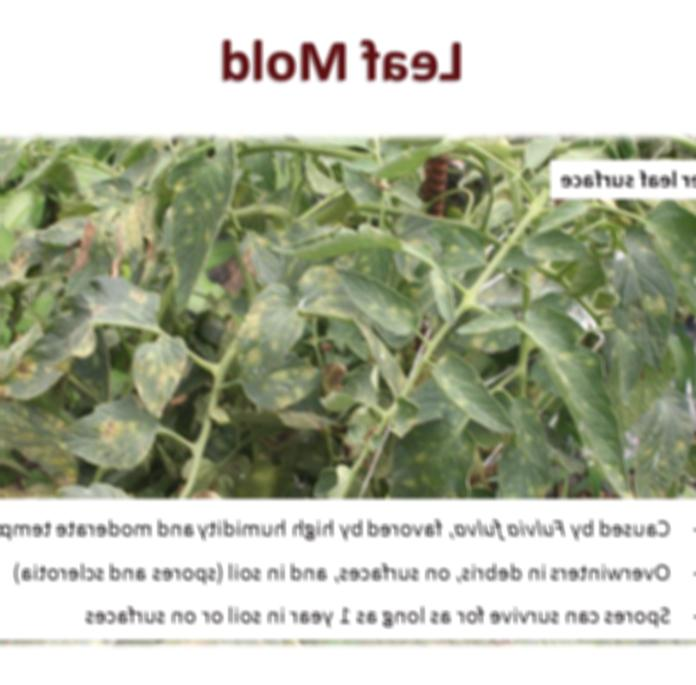Tomato mold leaf: (528, 306, 636, 496), (0, 281, 135, 400), (168, 145, 246, 319), (627, 202, 696, 365), (282, 258, 417, 338), (612, 243, 681, 393), (50, 392, 157, 473), (0, 382, 80, 479), (428, 352, 517, 439), (234, 282, 305, 376), (128, 333, 194, 426), (499, 396, 554, 496), (420, 221, 486, 272), (450, 307, 522, 345), (515, 231, 585, 264), (427, 266, 453, 326)
